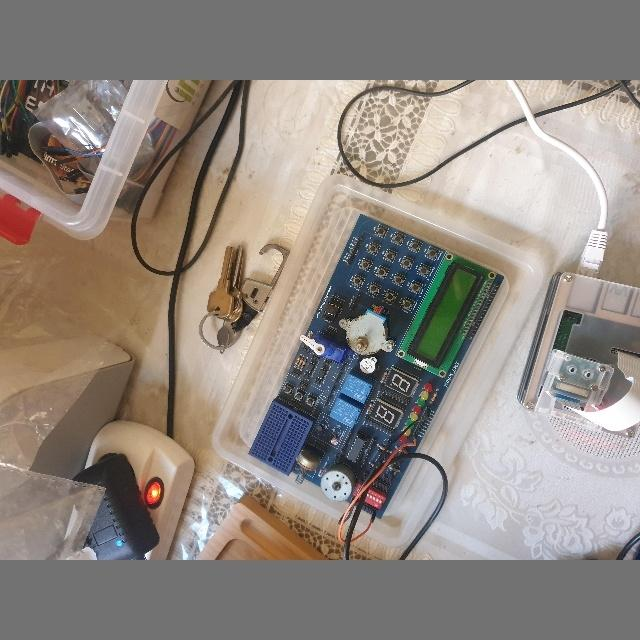Keys: (198, 244, 292, 354)
